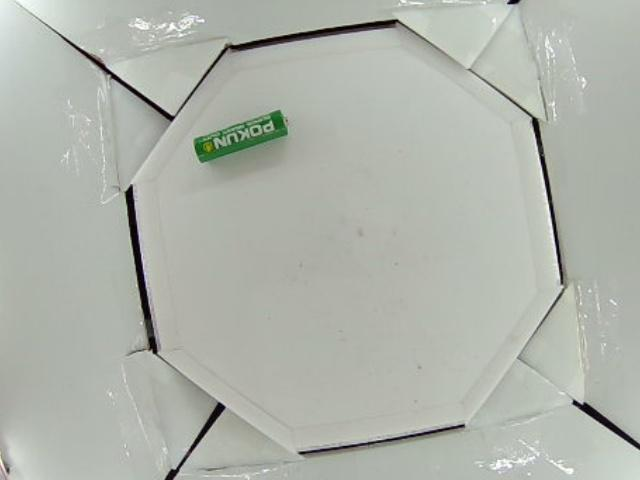Battery: (193, 109, 290, 163)
